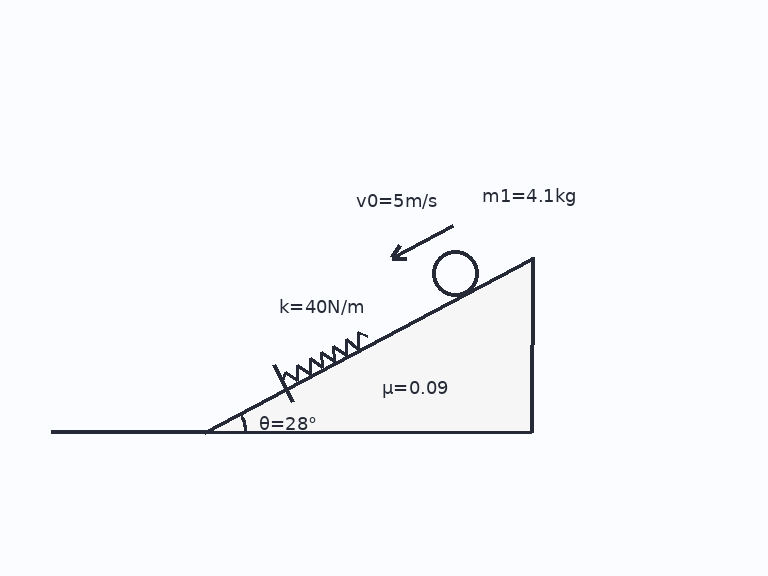ball: (430, 248, 480, 298)
ramp: (203, 257, 533, 434)
spring: (280, 331, 369, 383)
